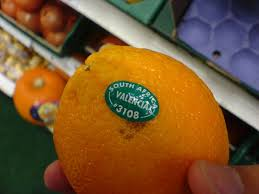orange: (51, 42, 232, 194), (14, 65, 68, 129)
